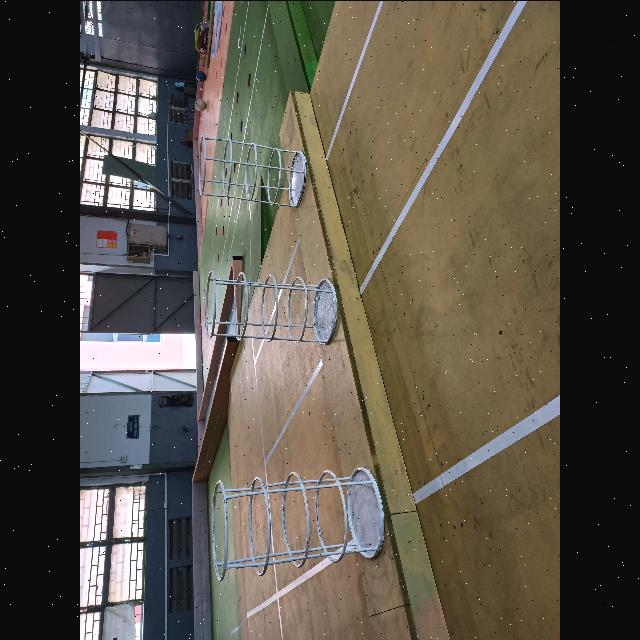S: (212, 466, 386, 577), (202, 268, 340, 344), (198, 135, 306, 207)
